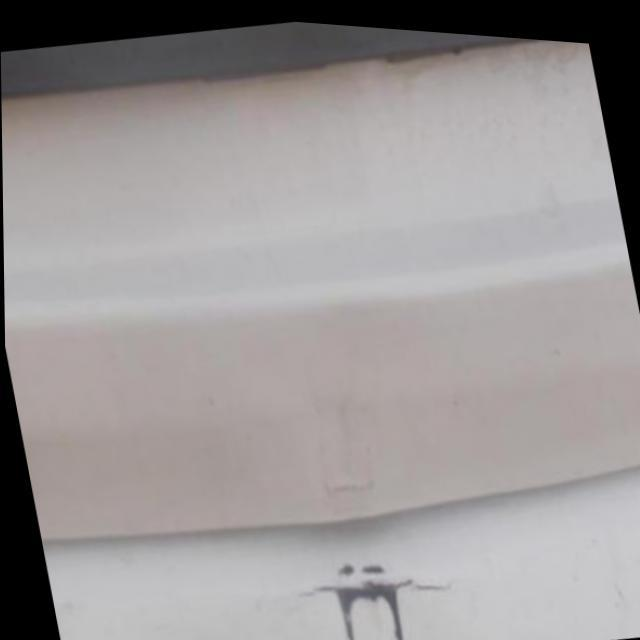scratch: (301, 558, 453, 640)
